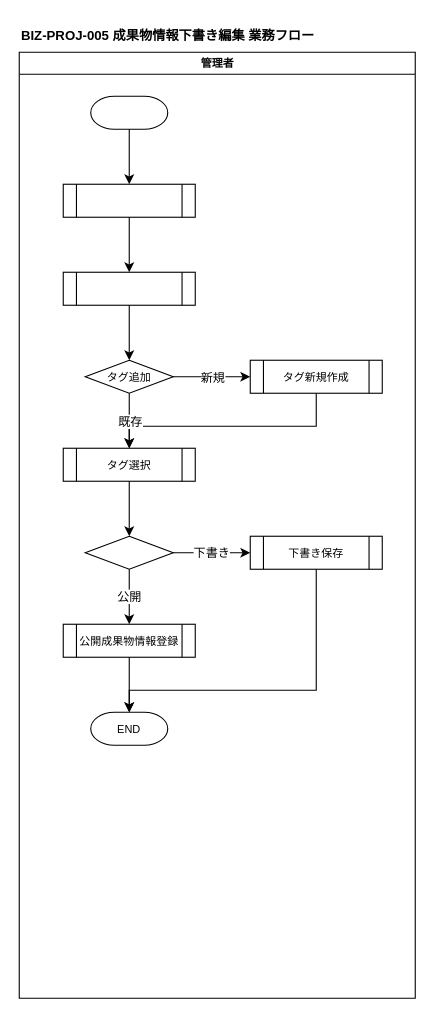
This 435x1018 diagram has some shape labels left out. The box of each missing label's shape, as (x1, y1, x2, y2) in pixels:
START: (90, 95, 168, 129)
下書き編集: (62, 271, 195, 305)
下書き選択: (62, 183, 195, 217)
登録区分: (84, 535, 173, 569)
